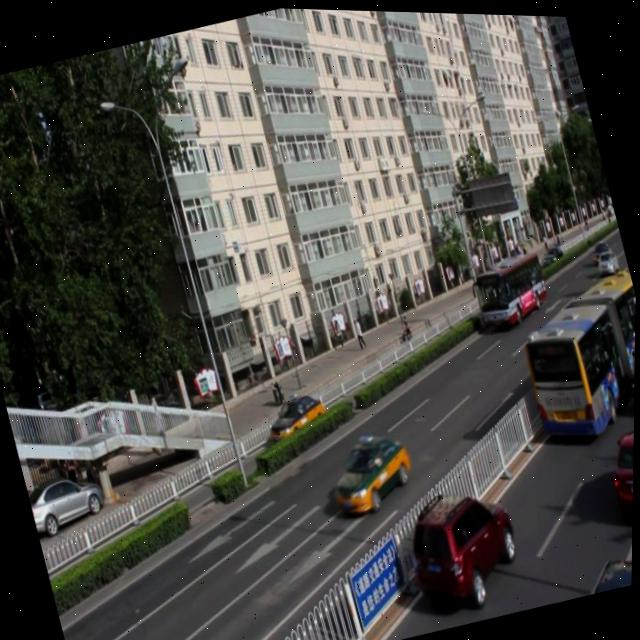car: (401, 476, 530, 613), (321, 423, 418, 516), (262, 386, 331, 444), (600, 415, 635, 520), (574, 533, 634, 594), (623, 345, 636, 406)
van: (509, 264, 637, 443), (469, 242, 553, 327)
